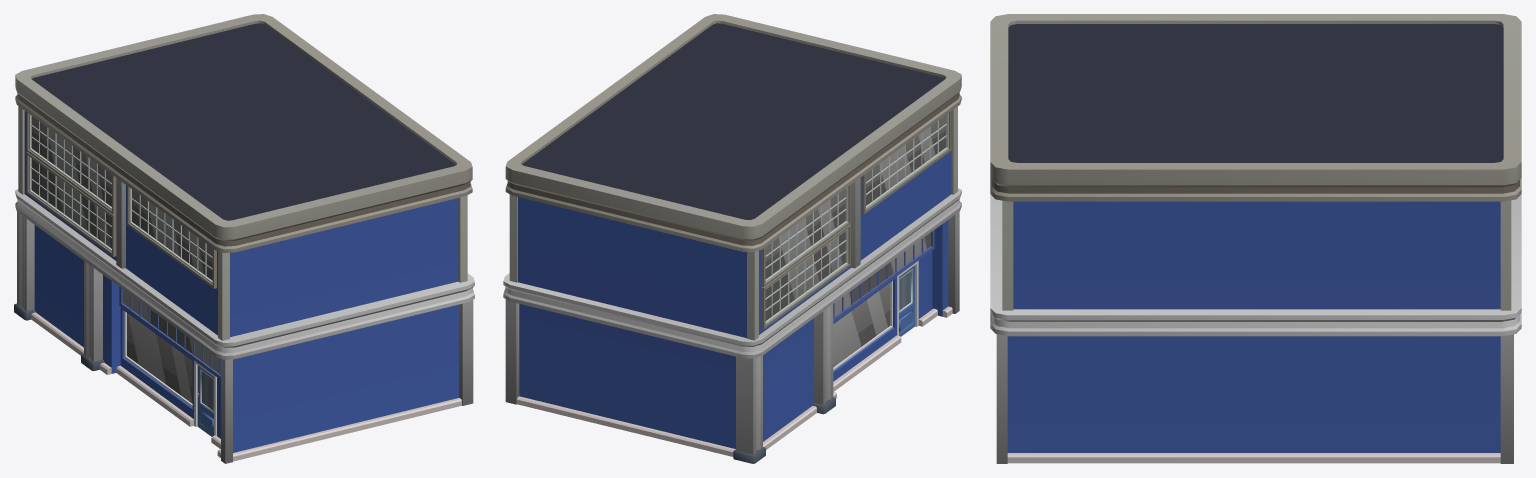
Rendered from Building_11_3_F.fbx.
The picture shows the model from 3 angles, left to right: view 1: azimuth 30°, elevation 25°; view 2: azimuth 150°, elevation 25°; view 3: azimuth 270°, elevation 25°; orthographic projection. The views are drawn at different scales.
Parts seen in each view (by area): view 1: Building_11_3_F; view 2: Building_11_3_F; view 3: Building_11_3_F.
Part boxes in pixels (box(x1,y1,x2,y2)): Building_11_3_F: box(14, 14, 474, 463); Building_11_3_F: box(503, 14, 961, 463); Building_11_3_F: box(990, 14, 1521, 463).
Bounding box in the file's own units: 814 × 715 × 1163.
